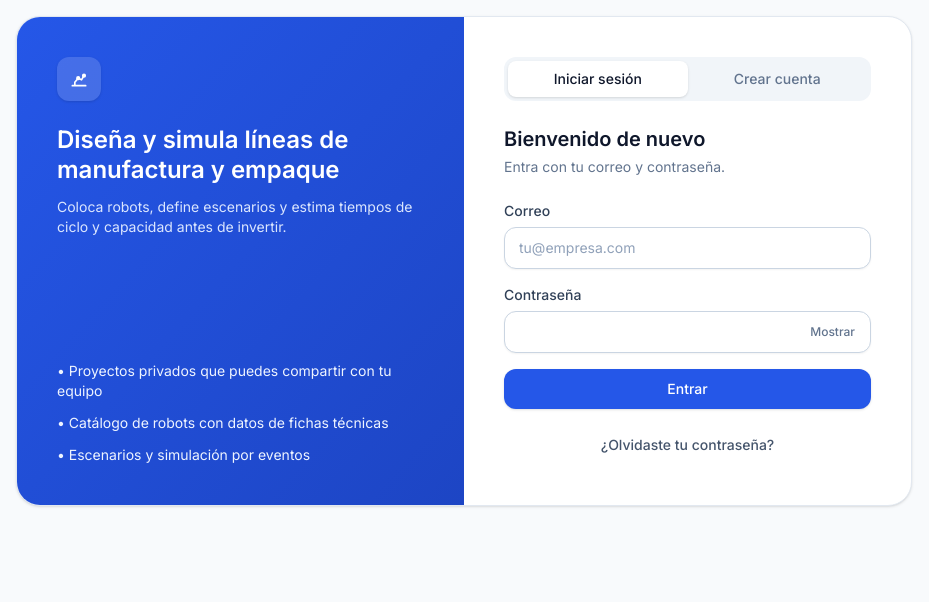
Test: registra con correo y contraseña y pide confirmar el correo
The image size is (929, 602).
Click the tab "Crear cuenta": (777, 79) [688,61,867,97]
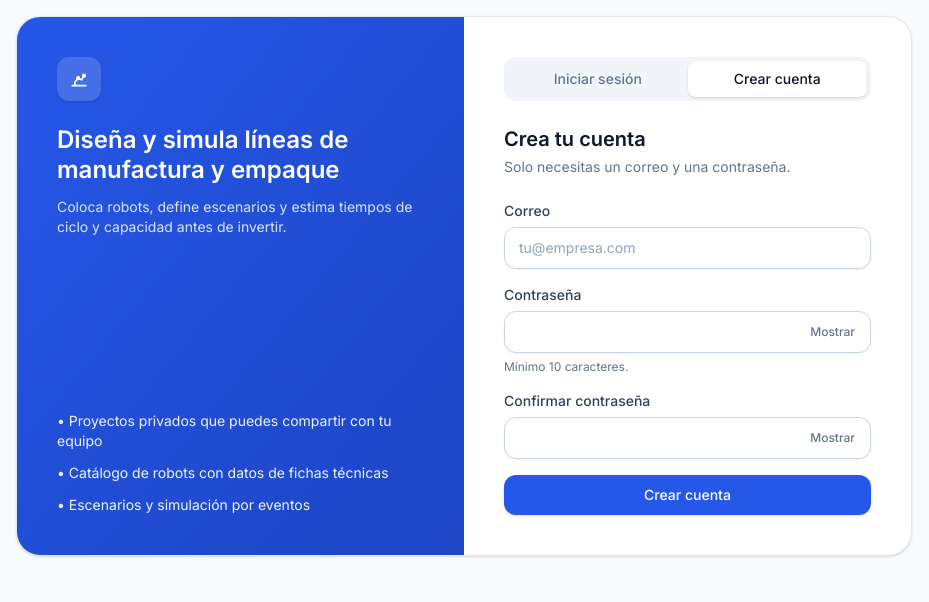
In the field labelled "Correo": (688, 248) [504,227,871,269], type "nuevo@b.mx"
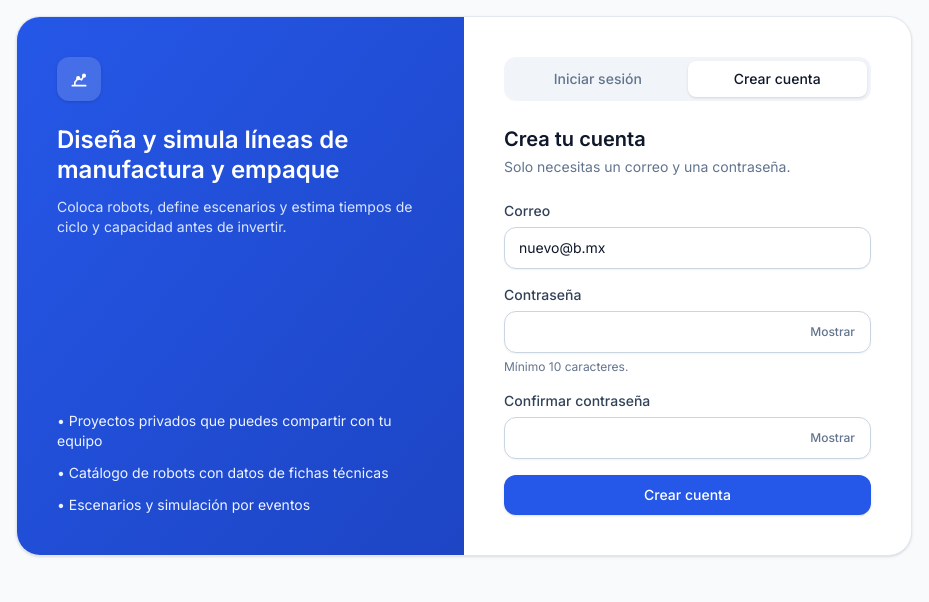
In the password field labelled "Contraseña": (688, 332) [504,311,871,353], type "unaclave-larga"
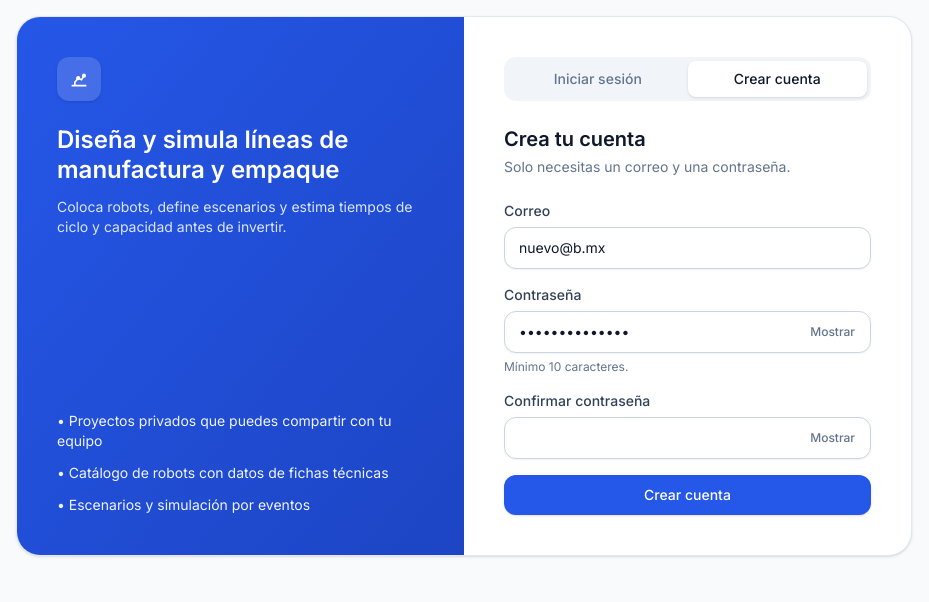
In the password field labelled "Confirmar contraseña": (688, 438) [504,417,871,459], type "unaclave-larga"
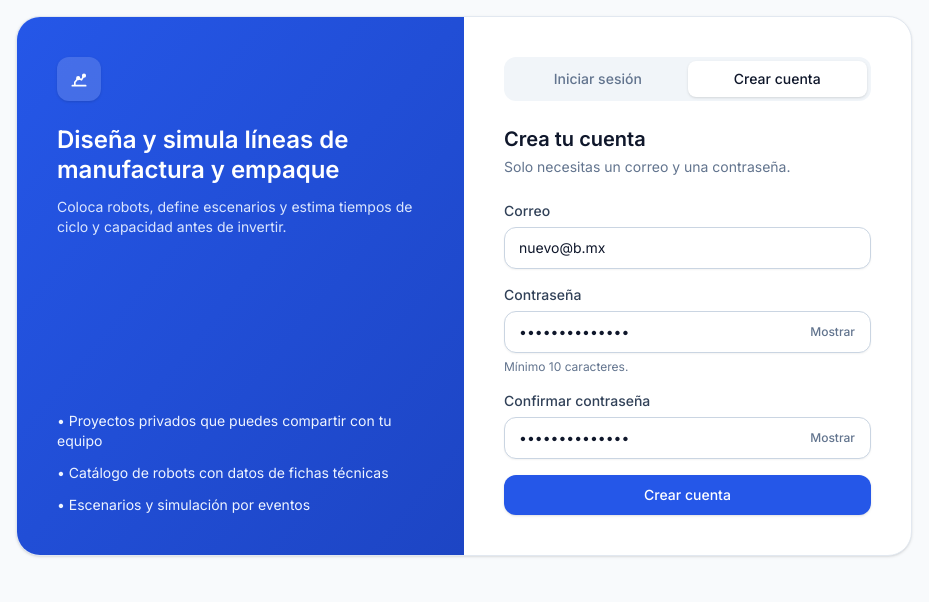
Click the button "Crear cuenta": (688, 495) [504,475,871,515]
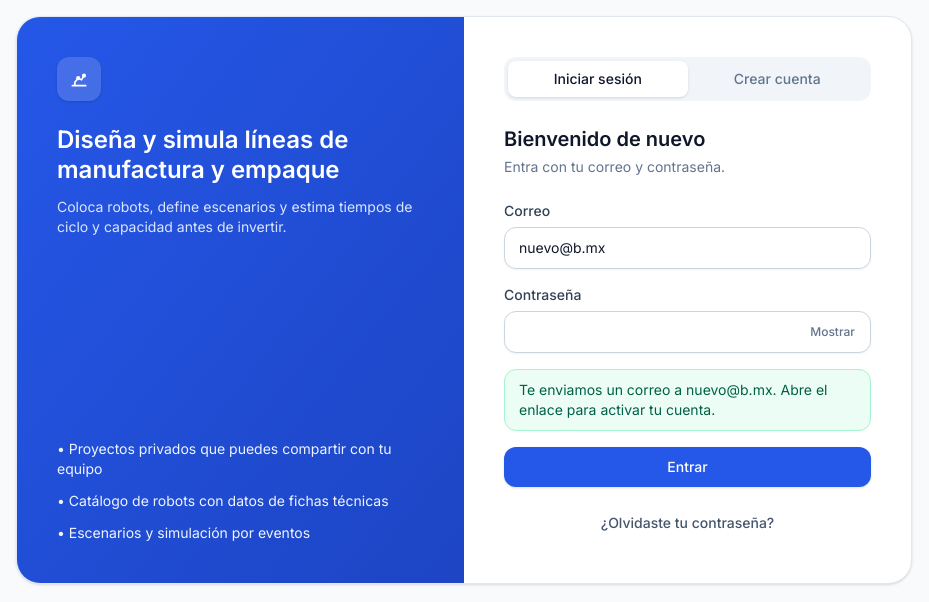
Now the message shows "Te enviamos un correo a nuevo@b.mx", box [519,381,827,418]
